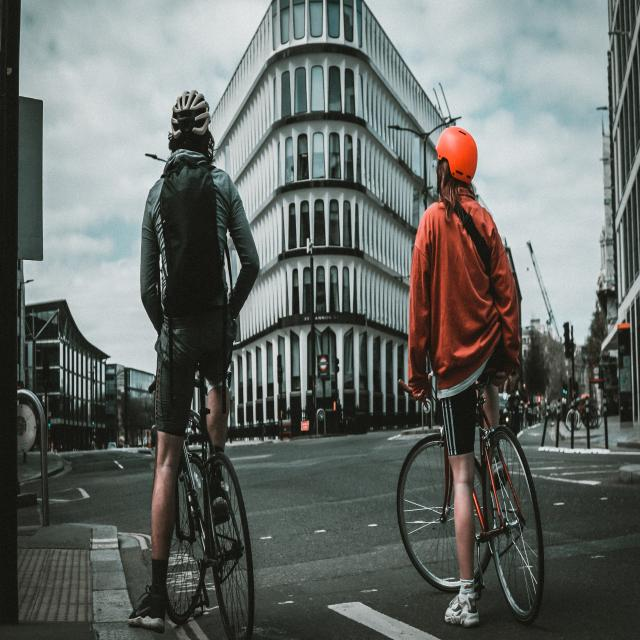backpack: (151, 153, 224, 322)
